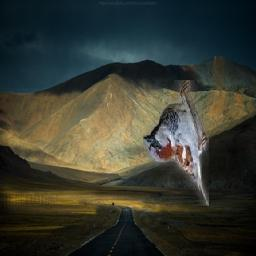Sparrow: (143, 80, 209, 206)
